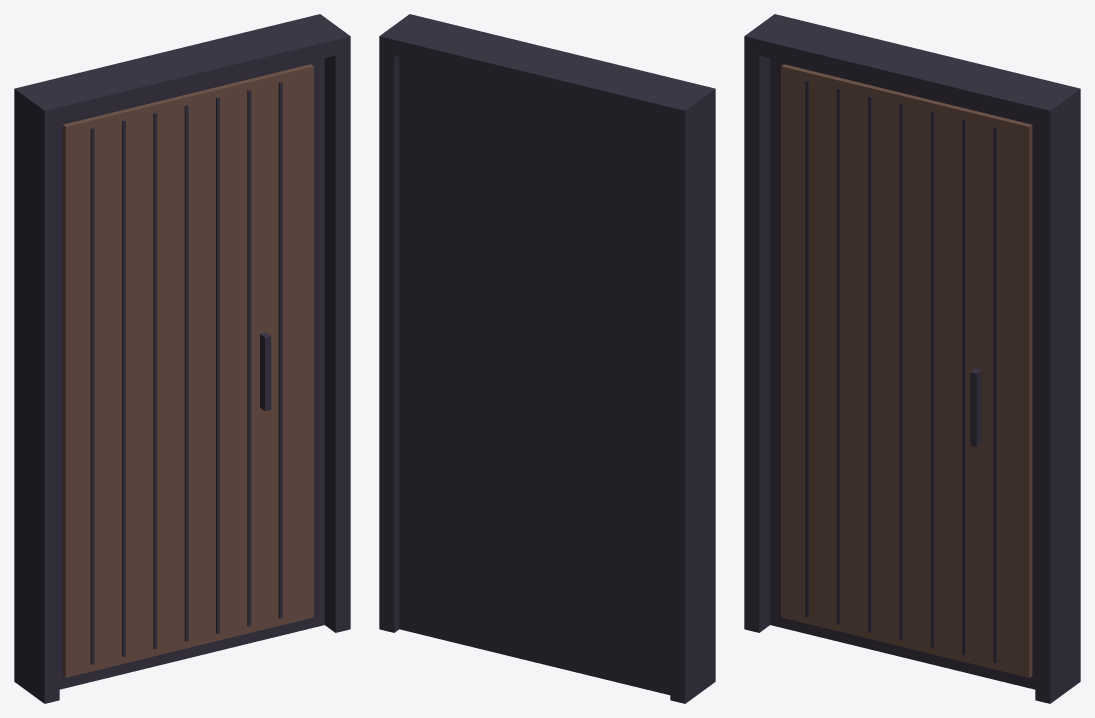
Rendered from SM_Door_Entry_110x220.fbx.
3 renders of one model, left to right at view 1: azimuth 30°, elevation 25°; view 2: azimuth 150°, elevation 25°; view 3: azimuth 330°, elevation 25°, orthographic.
Visible parts, largest first — view 1: SM_Door_Entry_110x220; view 2: SM_Door_Entry_110x220; view 3: SM_Door_Entry_110x220.
Boxes of the visible parts, x1=… form: SM_Door_Entry_110x220: x1=14, y1=14, x2=350, y2=703; SM_Door_Entry_110x220: x1=379, y1=14, x2=715, y2=703; SM_Door_Entry_110x220: x1=744, y1=14, x2=1080, y2=703.
Size of the model in its own units: 1.22 by 0.21 by 2.26.
